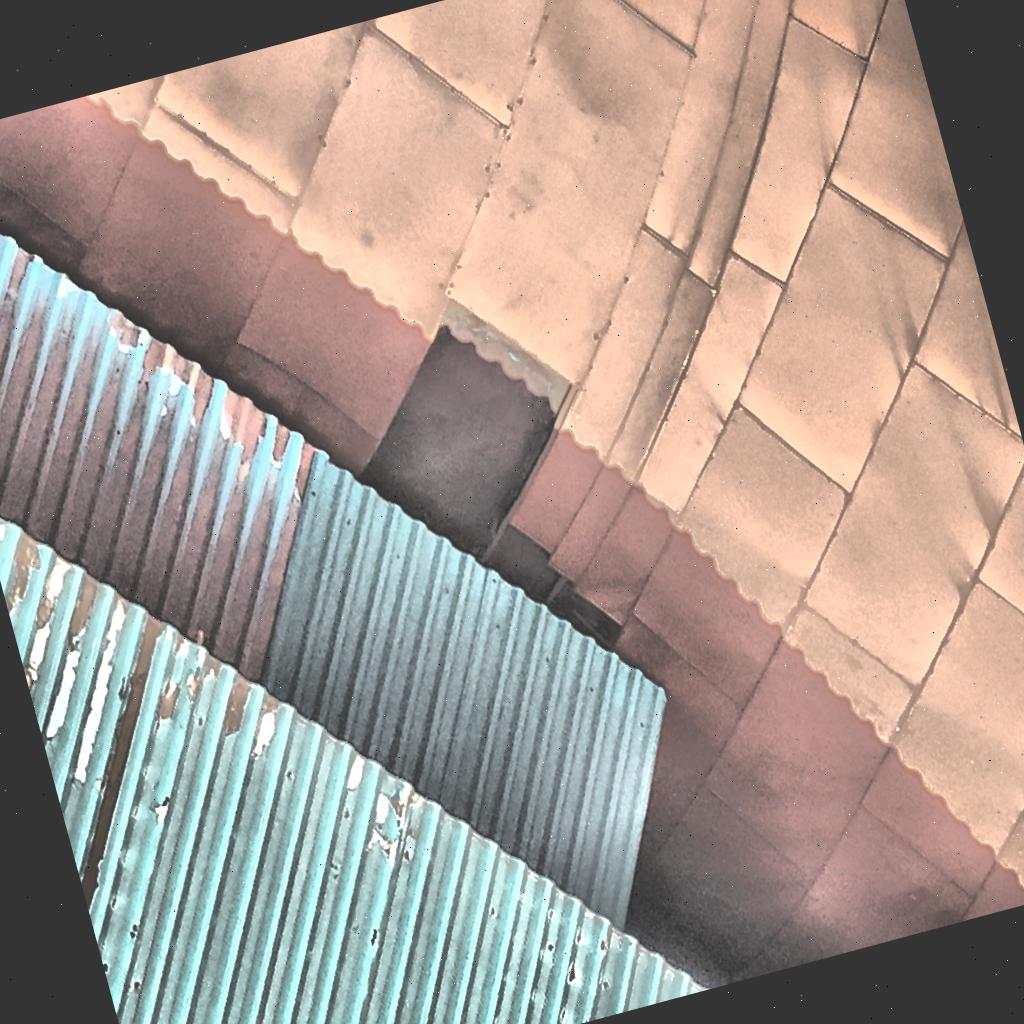Failures: (360, 307, 622, 654)
